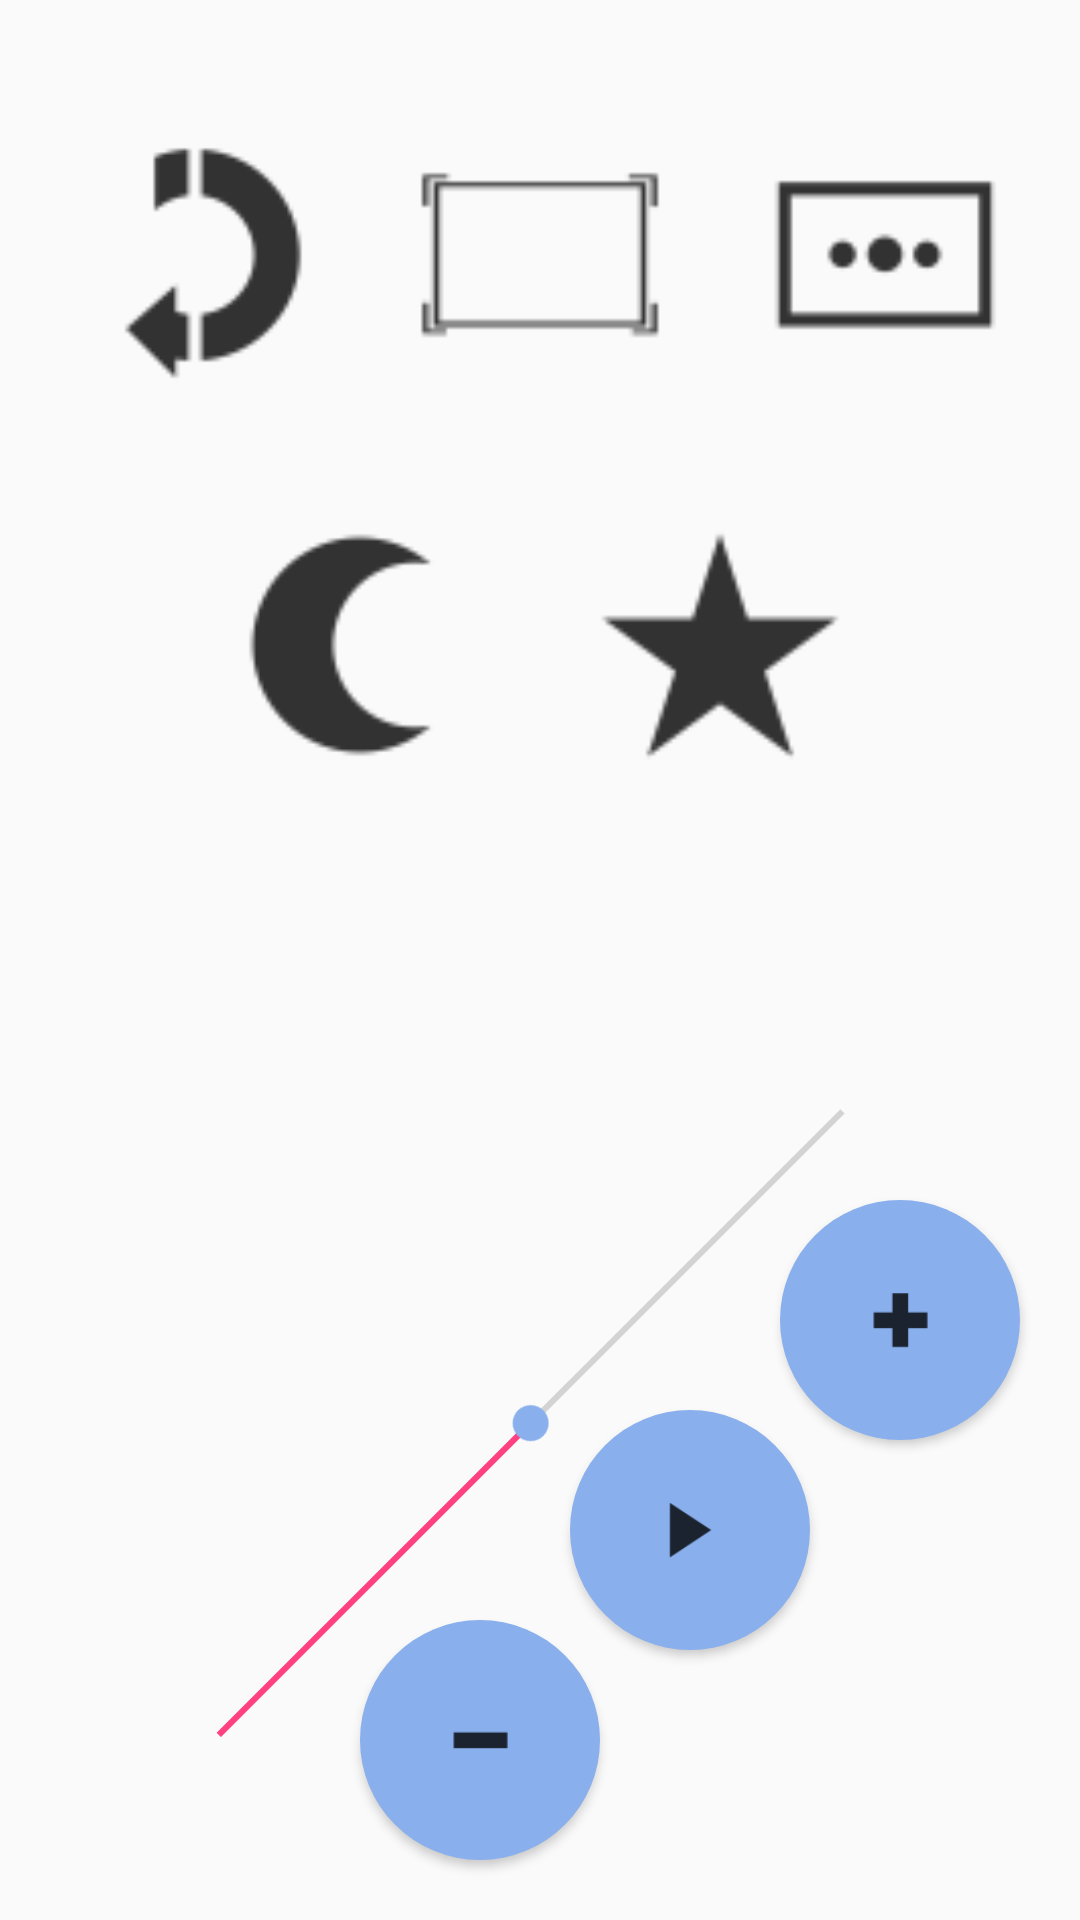

Locate icon controls on the screen. Image size 1080px×1920px, boxes as (x1, y1, x2, y2).
Channel Plus: (873, 1293, 928, 1348)
favorites: (602, 535, 838, 756)
nightmode: (250, 535, 430, 755)
pip: (421, 172, 659, 337)
Play / Pause Timeshift: (669, 1503, 711, 1558)
